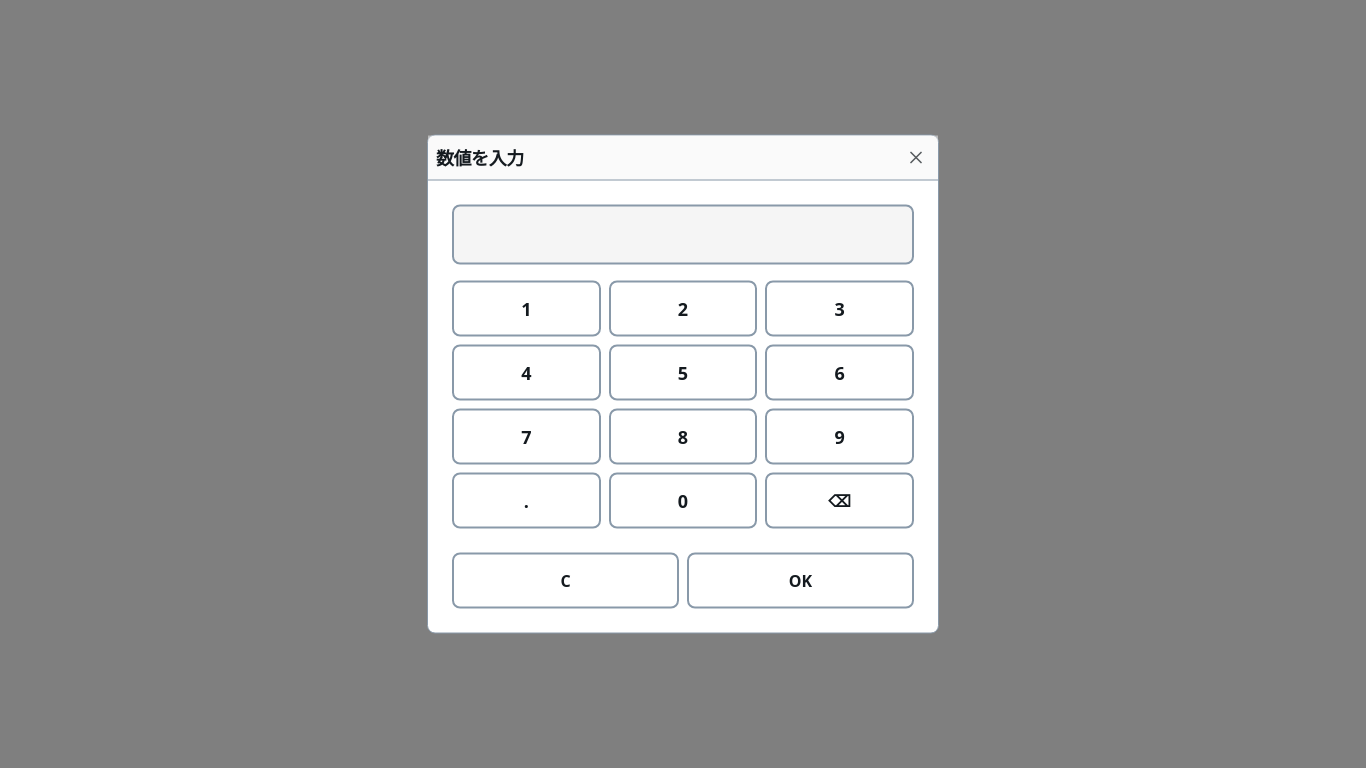
Test: KeypadModal Component › Number Variant (Default) › prevents multiple decimals
Click the button "1". click: point(526, 308)
box: [452,280,601,336]
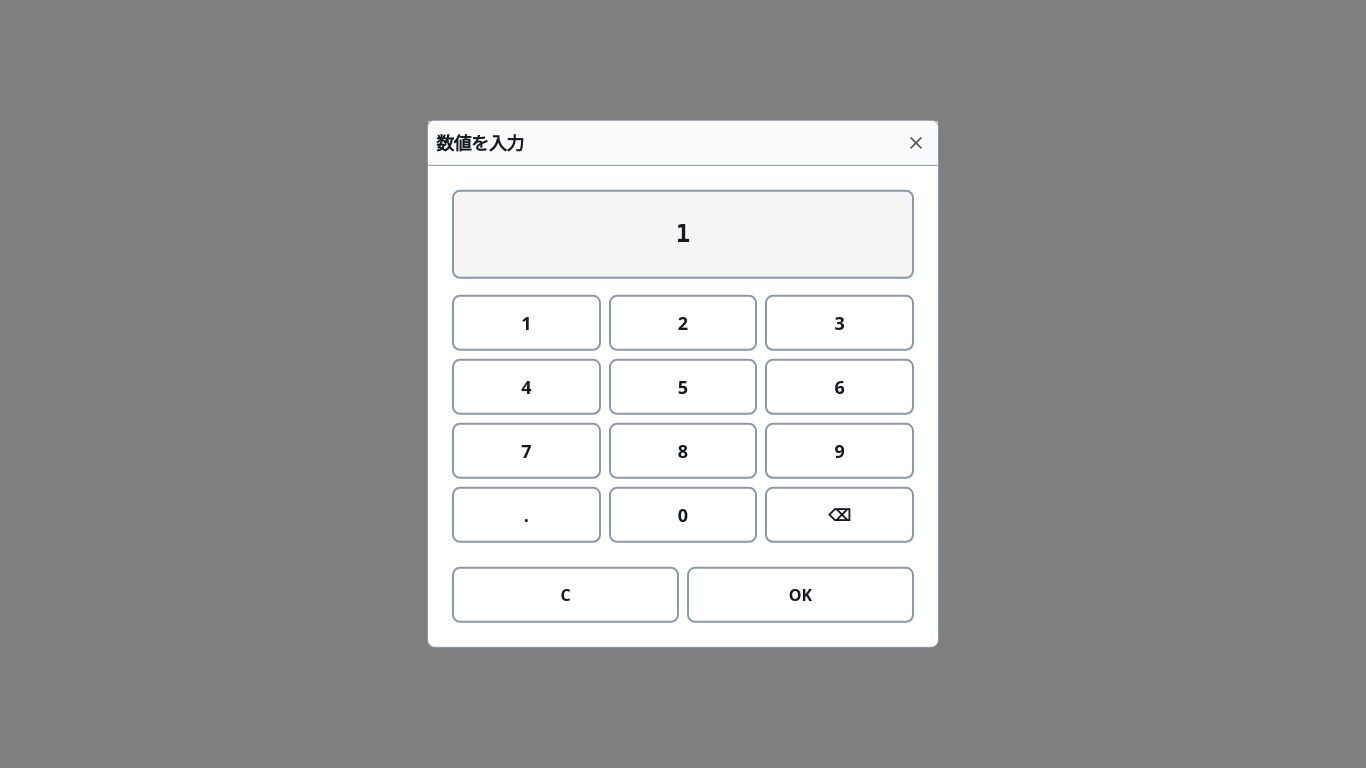
Click the button ".". click: point(526, 515)
box: [452,487,601,543]
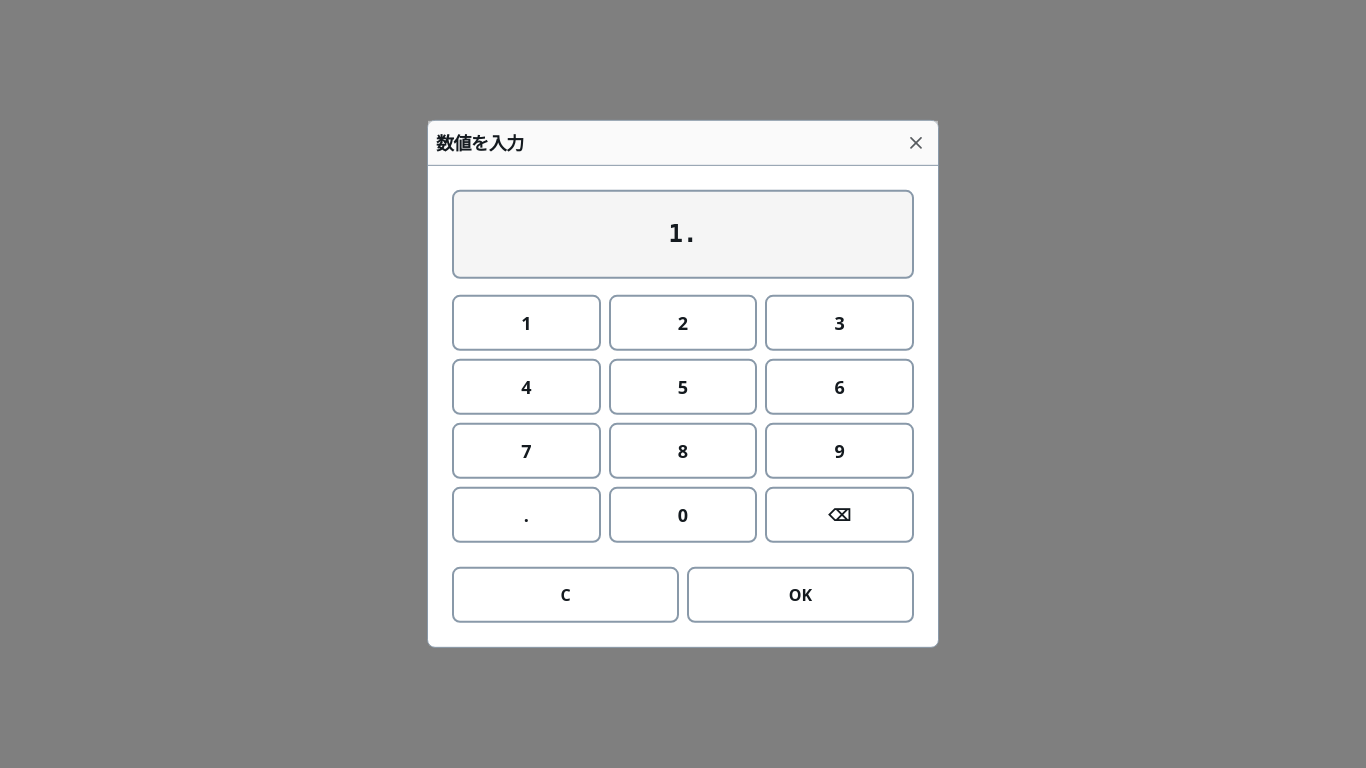
Click the button ".". click: point(526, 515)
box: [452,487,601,543]
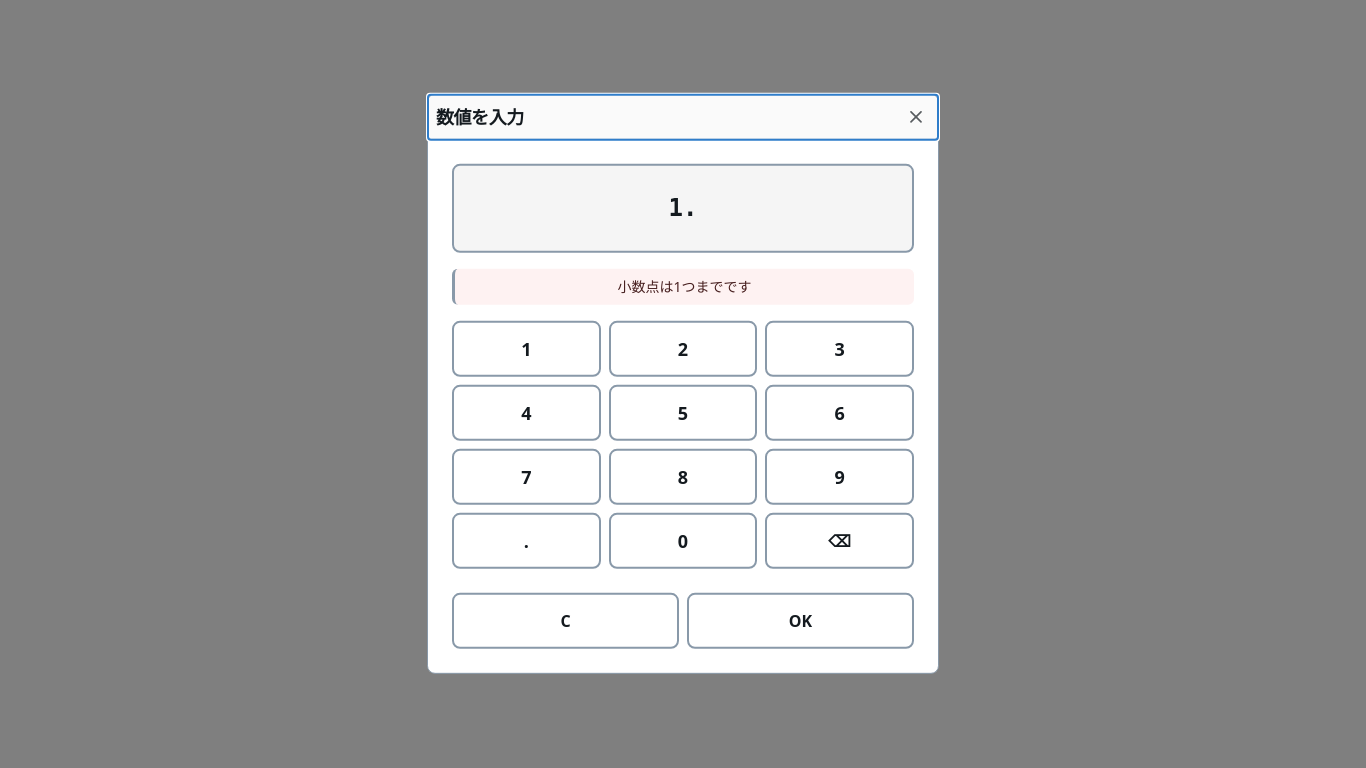
Result: the text "小数点は1つまでです" is shown at [452,269,914,305]
